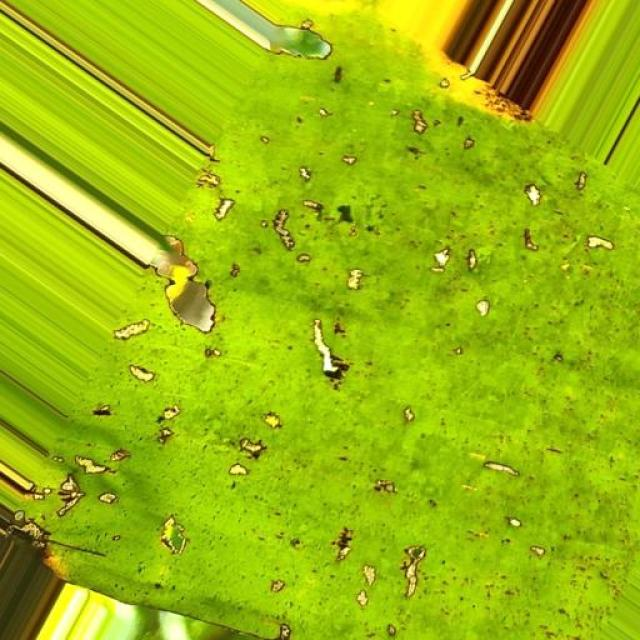Black_rot: (14, 25, 640, 640)
